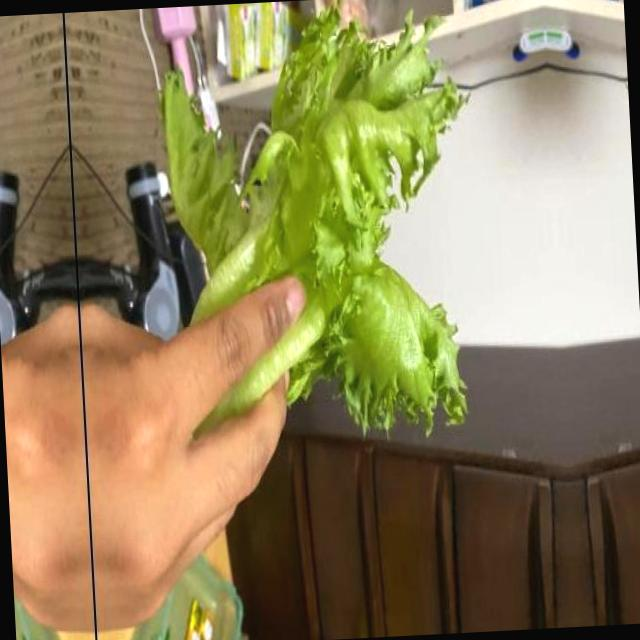healthy: (154, 0, 487, 454), (622, 0, 640, 429)
